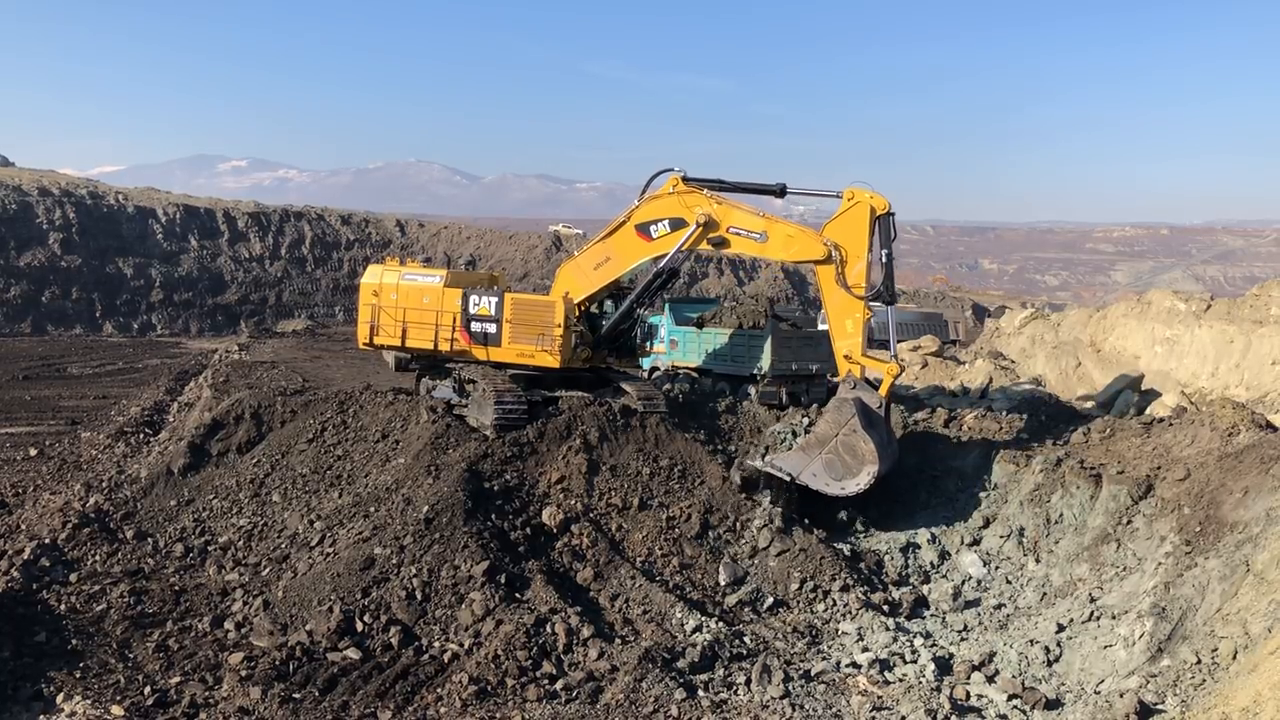full: (741, 368, 918, 505)
